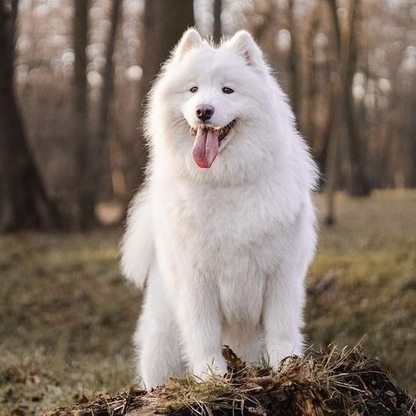samoyed: (115, 23, 322, 393)
